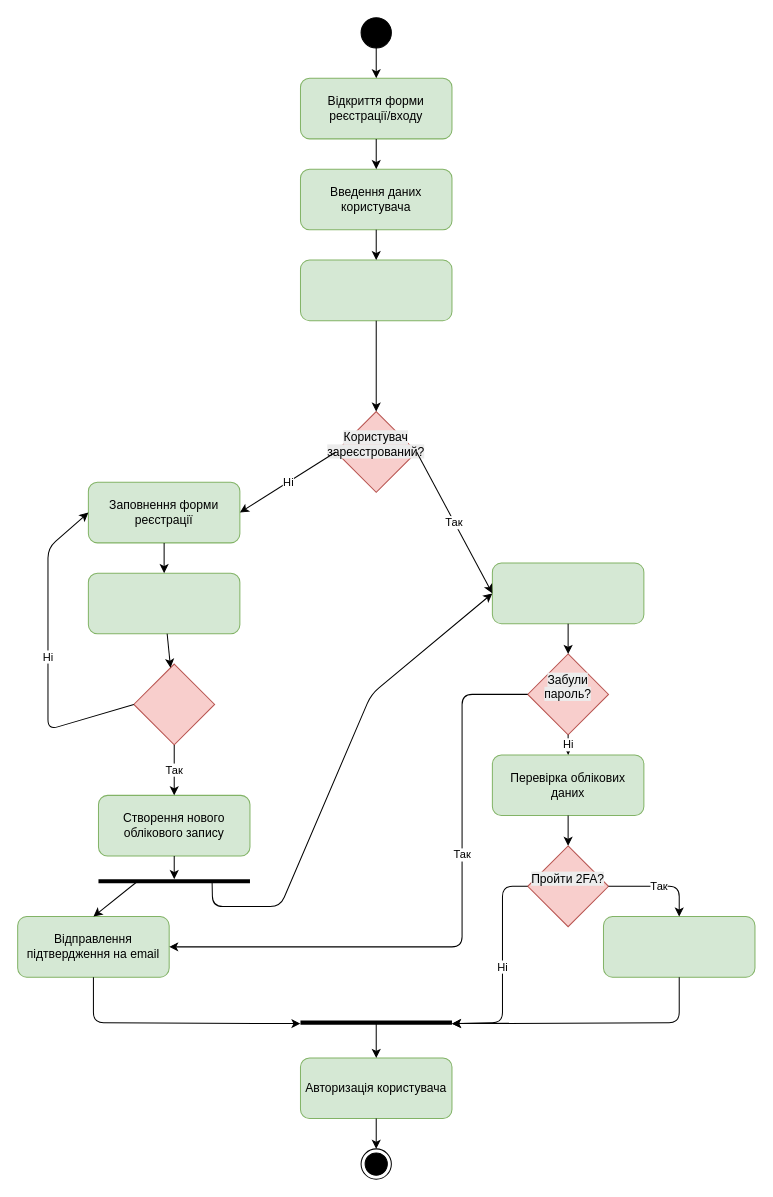
Image size: 773x1197. Some labels were removed from this diagram. Here are the shapes that lost their labels. From the top down, the centre of each, then its label:
At pixel 375 290: "Перевірка наявності користувача в системі".
At pixel 163 603: "Валідація даних реєстрації".
At pixel 567 593: "Введення даних для входу".
At pixel 174 704: "Дані валідні?".
At pixel 678 946: "Додаткова перевірка".
